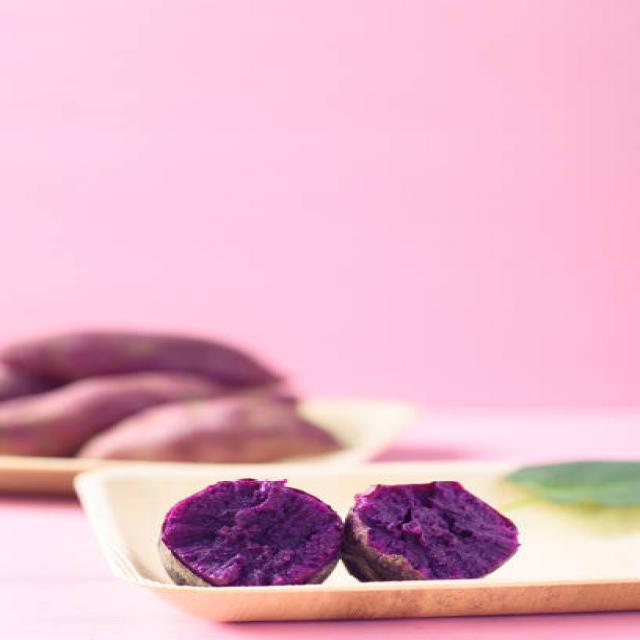Sweet Potato: (163, 480, 343, 582), (354, 476, 520, 581)
